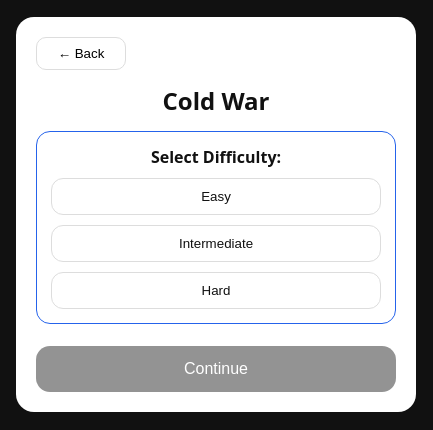
Test case: DifficultySelection › enables Continue after selecting a difficulty
Click the button "Hard" at (216, 290), box [51, 272, 381, 308]
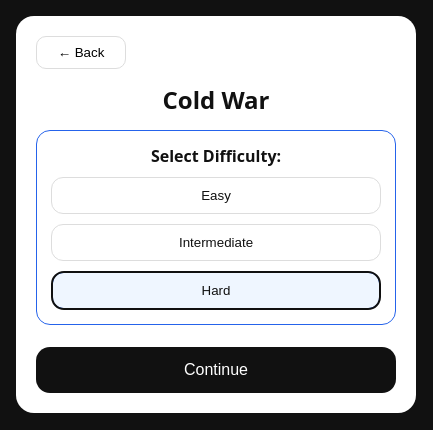
Result: the button "Continue" is enabled at [36, 346, 396, 392]
